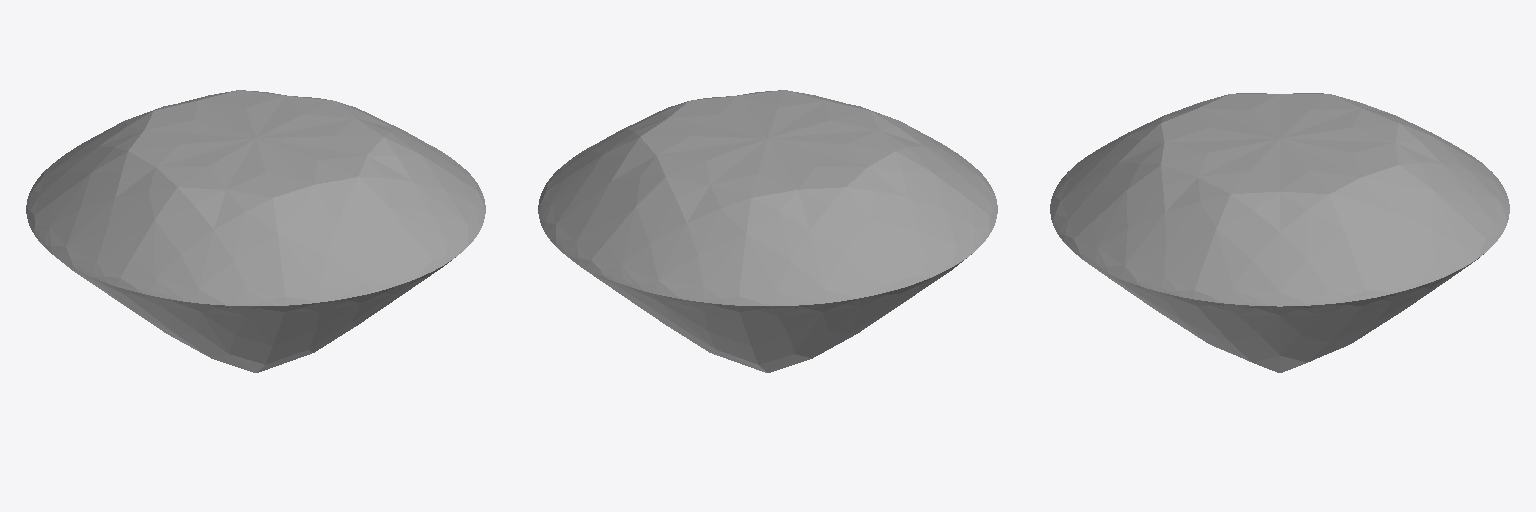
Rendered from Gem.obj.
3 renders of one model, left to right at view 1: azimuth 30°, elevation 25°; view 2: azimuth 150°, elevation 25°; view 3: azimuth 270°, elevation 25°, orthographic.
Visible parts, largest first — view 1: polySurface25 Mesh; view 2: polySurface25 Mesh; view 3: polySurface25 Mesh.
Part boxes in pixels (bbox=[...]): polySurface25 Mesh: bbox=[26, 90, 485, 372]; polySurface25 Mesh: bbox=[538, 90, 997, 372]; polySurface25 Mesh: bbox=[1050, 93, 1509, 372].
Bounding box in the file's own units: 2 × 1.13 × 2.